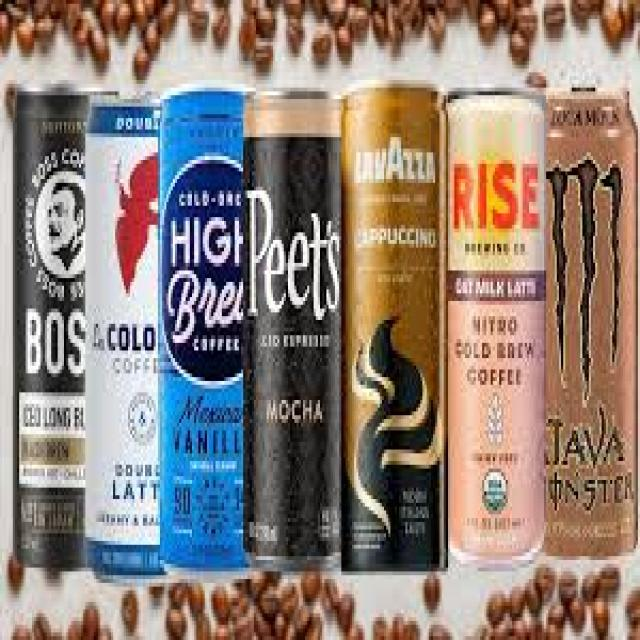Cans: (339, 72, 450, 579), (239, 80, 346, 575), (444, 80, 550, 571), (546, 72, 640, 568), (156, 84, 247, 575), (81, 91, 166, 586), (9, 76, 90, 579)
